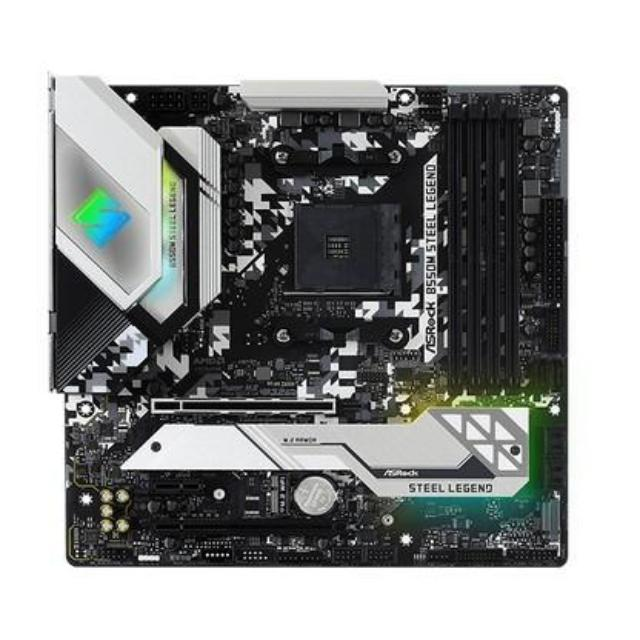Mainboard: (38, 70, 582, 592)
